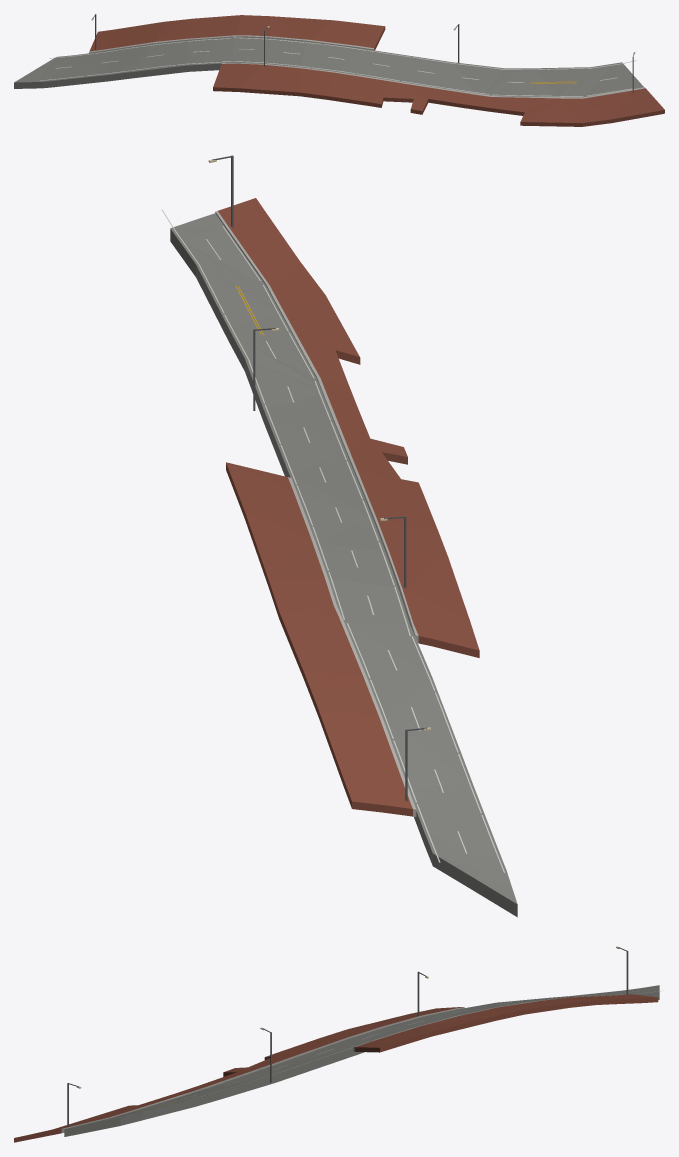
The picture shows the model from 3 angles, top to bottom: view 1: azimuth 30°, elevation 25°; view 2: azimuth 150°, elevation 25°; view 3: azimuth 270°, elevation 25°; orthographic projection. The views are drawn at different scales.
Size of the model in its own units: 77.57 by 21 by 87.97.
